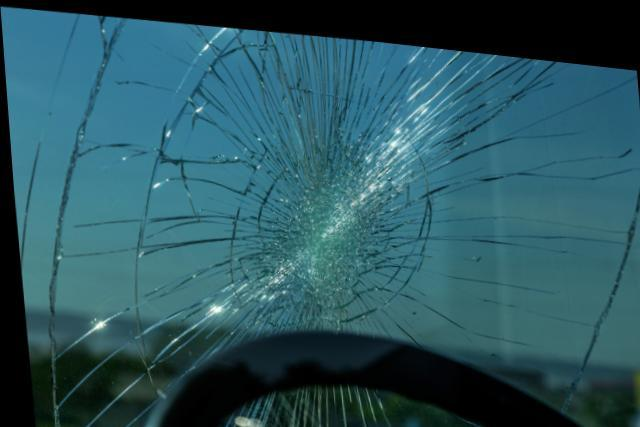glass shatter: (0, 6, 640, 427)
